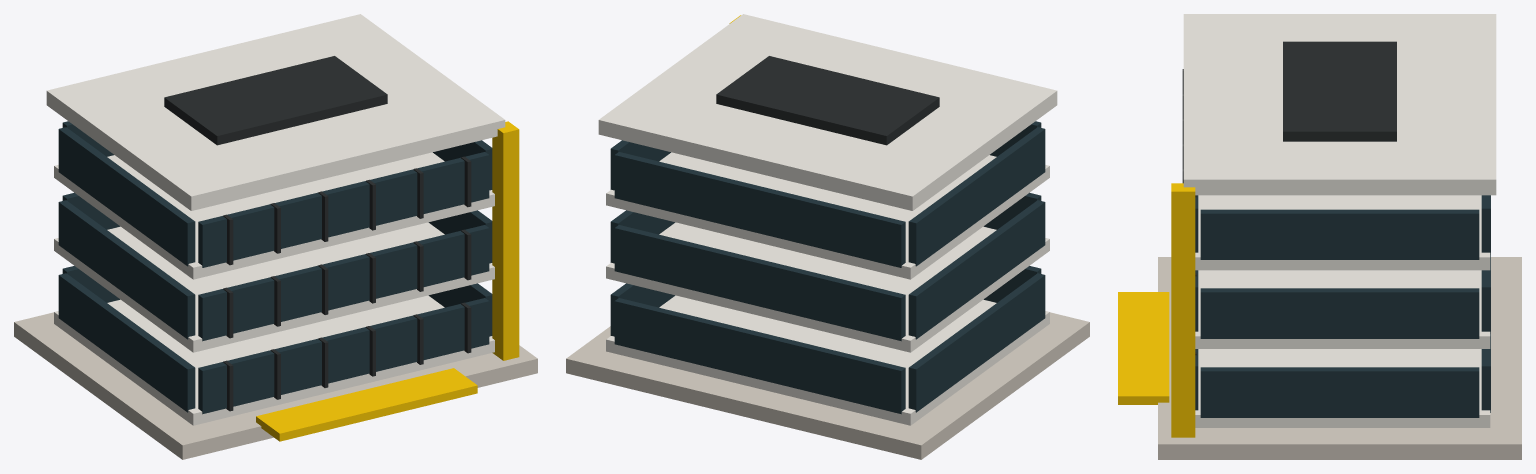
The model's file is predio-academico.glb.
3 views of the same model, side by side, from view 1: azimuth 30°, elevation 25°; view 2: azimuth 150°, elevation 25°; view 3: azimuth 270°, elevation 25° (orthographic). The views are drawn at different scales.
Visible parts, largest first — view 1: Predio academico; view 2: Predio academico; view 3: Predio academico.
Part boxes in pixels (bbox=[...]): Predio academico: bbox=[14, 14, 537, 459]; Predio academico: bbox=[566, 14, 1089, 459]; Predio academico: bbox=[1118, 14, 1521, 459].
Bounding box in the file's own units: 5.6 × 3.9 × 5.1.
